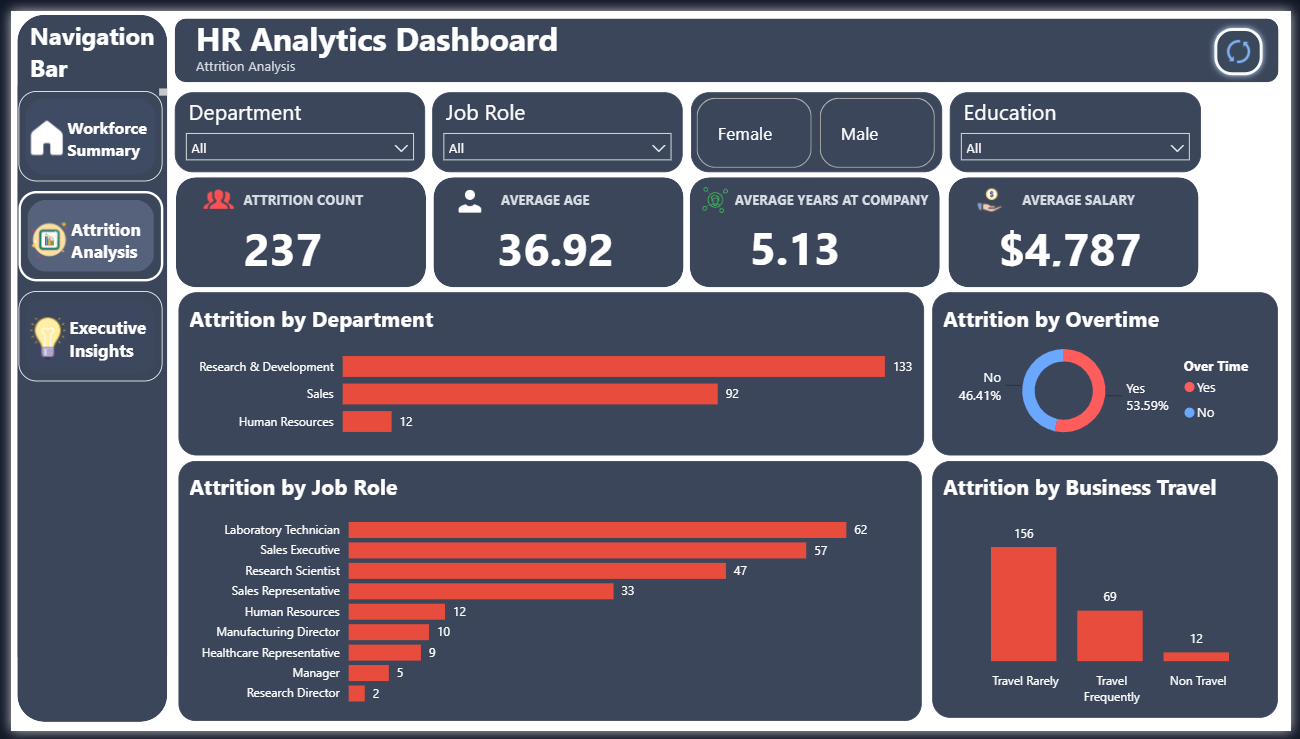

What the dashboard file says about the page in this screenshot:
{"tool":"powerbi","page":{"name":"Attrition Analysis","canvas":[1280,720],"ordinal":1},"visuals":[{"type":"shape","box":[5.7,4.3,150,707.1],"z":0},{"type":"shape","box":[163.8,7.5,1103.8,63.8],"z":1000},{"type":"textbox","box":[179.5,1.4,391.4,52.9],"z":2000},{"type":"textbox","box":[180,41,141.2,32.5],"z":3000},{"type":"slicer","fields":{"Values":["Employee.Department"]},"box":[164.1,81.6,250,80],"z":4000},{"type":"slicer","fields":{"Values":["Employee.Job Role"]},"box":[421.7,81.4,250,79.6],"z":5000},{"type":"advancedSlicerVisual","fields":{"Values":["Employee.Gender"]},"box":[680.3,81.4,250.9,79.6],"z":6000},{"type":"slicer","fields":{"Values":["Employee.Education"]},"box":[938.6,81.4,250.9,79.6],"z":7000},{"type":"clusteredBarChart","title":"Attrition by Department","fields":{"Category":["Employee.Department"],"Y":["Measures (3).Attrition Count"]},"box":[167.1,281.4,745.7,162.9],"z":8000},{"type":"donutChart","title":"Attrition by Overtime","fields":{"Category":["Employee.Over Time"],"Y":["Measures (3).Attrition Count"]},"box":[921.4,281.4,345.7,162.9],"z":9000},{"type":"clusteredColumnChart","title":"Attrition by Business Travel","fields":{"Category":["Employee.Business Travel"],"Y":["Measures (3).Attrition Count"]},"box":[921.4,450,345.7,257.1],"z":10000},{"type":"clusteredBarChart","title":"Attrition by Job Role","fields":{"Category":["Employee.Job Role"],"Y":["Measures (3).Attrition Count"]},"box":[167.1,450,742.9,260],"z":11000},{"type":"shape","box":[422.1,166.2,250,110],"z":12000},{"type":"textbox","box":[485.1,175.1,130,30],"z":13000},{"type":"cardVisual","fields":{"Data":["Measures (3).Average Age"]},"box":[457.1,197.1,199.4,76],"z":14000},{"type":"shape","box":[678.3,166,250,110],"z":15000},{"type":"textbox","box":[718.4,174.8,204.3,45.7],"z":16000},{"type":"cardVisual","fields":{"Data":["Measures (3).Average Years at Company (Attrition)"]},"box":[710,196.8,199.4,76],"z":17000},{"type":"shape","box":[937.1,166,250,110],"z":18000},{"type":"textbox","box":[1006.4,174.8,130,30],"z":19000},{"type":"cardVisual","fields":{"Data":["Measures (3).Average Salary (Attrition)"]},"box":[958.4,197.7,207.1,75.7],"z":20000},{"type":"image","box":[963.8,174.1,30,30],"z":21000},{"type":"image","box":[688.4,173.4,30,30],"z":22000},{"type":"image","box":[443.7,174.4,30,30],"z":23000},{"type":"shape","box":[164.8,166.2,250,110],"z":24000},{"type":"textbox","box":[227.8,175.1,168.6,29.5],"z":25000},{"type":"cardVisual","fields":{"Data":["Measures (3).Attrition Count"]},"box":[203.8,197.1,199.4,76],"z":26000},{"type":"image","box":[192.3,172,30,30],"z":27000},{"type":"textbox","title":"Navigation Bar","box":[13.8,6.2,142.5,78.8],"z":28000},{"type":"actionButton","box":[8,180,145,90],"z":29000},{"type":"actionButton","box":[8,80,143.8,90],"z":30000},{"type":"actionButton","box":[8,280,143.8,90],"z":31000},{"type":"actionButton","box":[1198,11,60,58.9],"z":32000}]}

Visuals, with their boxes in screenshot pixels (x1, y1, x2, y2), scaled from the page's 1280x720 canvas onto the 1300x739 screenshot:
shape: 6:4:158:730
shape: 166:8:1287:73
textbox: 182:1:580:56
textbox: 183:42:326:75
slicer - Employee.Department: 167:84:421:166
slicer - Employee.Job Role: 428:84:682:165
advancedSlicerVisual - Employee.Gender: 691:84:946:165
slicer - Employee.Education: 953:84:1208:165
"Attrition by Department" clusteredBarChart: 170:289:927:456
"Attrition by Overtime" donutChart: 936:289:1287:456
"Attrition by Business Travel" clusteredColumnChart: 936:462:1287:726
"Attrition by Job Role" clusteredBarChart: 170:462:924:729
shape: 429:171:683:283
textbox: 493:180:625:211
cardVisual - Measures (3).Average Age: 464:202:667:280
shape: 689:170:943:283
textbox: 730:179:937:226
cardVisual - Measures (3).Average Years at Company (Attrition): 721:202:924:280
shape: 952:170:1206:283
textbox: 1022:179:1154:210
cardVisual - Measures (3).Average Salary (Attrition): 973:203:1184:281
image: 979:179:1009:209
image: 699:178:730:209
image: 451:179:481:210
shape: 167:171:421:283
textbox: 231:180:403:210
cardVisual - Measures (3).Attrition Count: 207:202:410:280
image: 195:177:226:207
"Navigation Bar" textbox: 14:6:159:87
actionButton: 8:185:155:277
actionButton: 8:82:154:174
actionButton: 8:287:154:380
actionButton: 1217:11:1278:72
